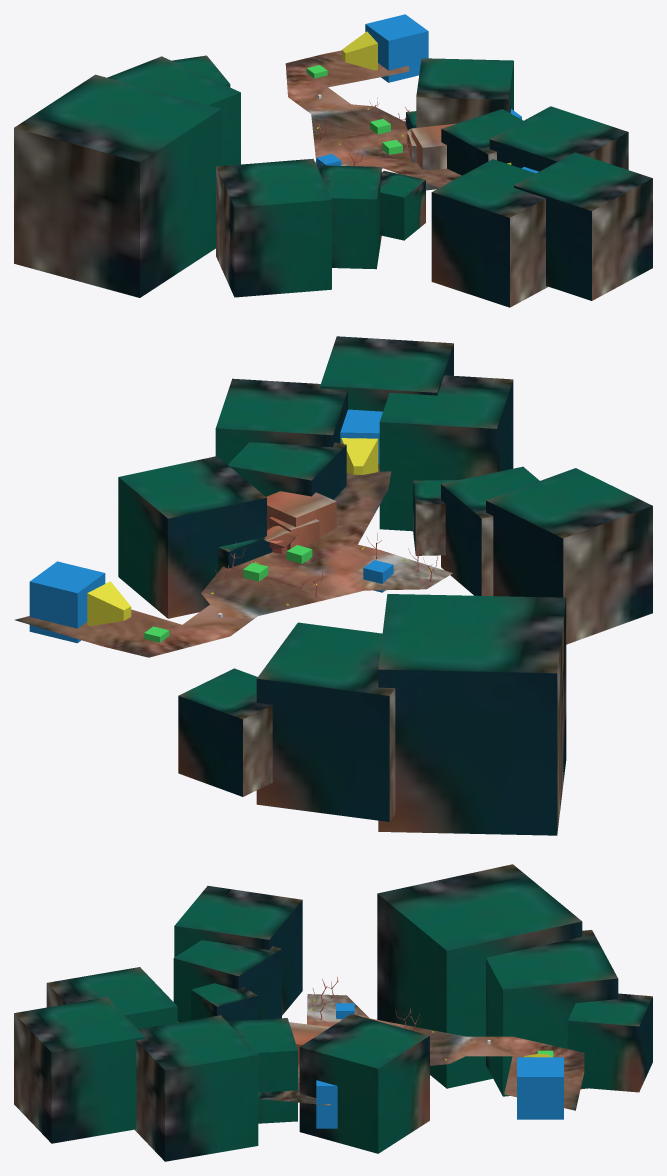
The model's file is new-try.gltf.
The picture shows the model from 3 angles, top to bottom: view 1: azimuth 30°, elevation 25°; view 2: azimuth 150°, elevation 25°; view 3: azimuth 270°, elevation 25°; orthographic projection. The views are drawn at different scales.
Visible parts, largest first — view 1: Cube.038, Cube.035, Cube.065, Cube.064, Ground, Cube.032, Cube.029, Cube.034, Cube.037, Cube.031, Cube.027, Cube.033 (+3 smaller); view 2: Cube.038, Cube.037, Cube.035, Ground, Cube.029, Cube.064, Cube.036, Cube.032, Cube.065, Cube.034, Cube.031, Cube.027 (+7 smaller); view 3: Cube.038, Cube.065, Cube.032, Cube.029, Cube.037, Cube.035, Cube.036, Ground, Cube.034, Cube.064, Cube.031, Cube.027 (+3 smaller).
Boxes of the visible parts, x1,y1,x2,y2 form: Cube.038: (14,74,221,297); Cube.035: (216,158,331,297); Cube.065: (514,152,652,300); Cube.064: (431,159,548,307); Ground: (285,50,461,187); Cube.032: (489,106,628,171); Cube.029: (416,58,513,127); Cube.034: (316,165,381,269); Cube.037: (107,56,240,165); Cube.031: (441,109,523,175); Cube.027: (365,14,428,82); Cube.033: (380,170,425,240); Cube.038: (378,594,566,835); Cube.037: (256,622,395,821); Cube.035: (486,468,652,644); Ground: (15,464,452,657); Cube.029: (118,456,266,618); Cube.064: (379,375,513,531); Cube.036: (178,668,272,796); Cube.032: (215,378,347,464); Cube.065: (320,336,453,411); Cube.034: (441,466,539,595); Cube.031: (228,442,346,499); Cube.027: (29,561,105,643); Cube.038: (377,864,582,1088); Cube.065: (14,997,144,1143); Cube.032: (134,1015,258,1161); Cube.029: (299,1014,429,1153); Cube.037: (486,930,618,1096); Cube.035: (174,886,302,1015); Cube.036: (567,993,652,1092); Ground: (258,994,584,1110); Cube.034: (173,940,281,1022); Cube.064: (46,967,177,1029); Cube.031: (227,1018,297,1123); Cube.027: (517,1057,563,1119).
Size of the model in its own units: 332 by 108 by 408.
Materials: 5 (1 with a texture image).
